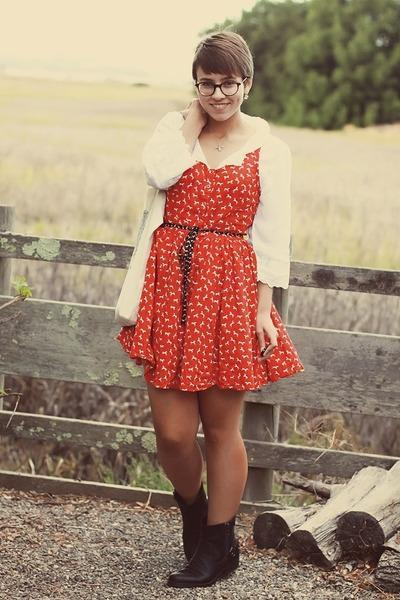dress: (117, 138, 299, 391)
jacket: (108, 113, 291, 323)
shoe: (162, 501, 245, 591)
